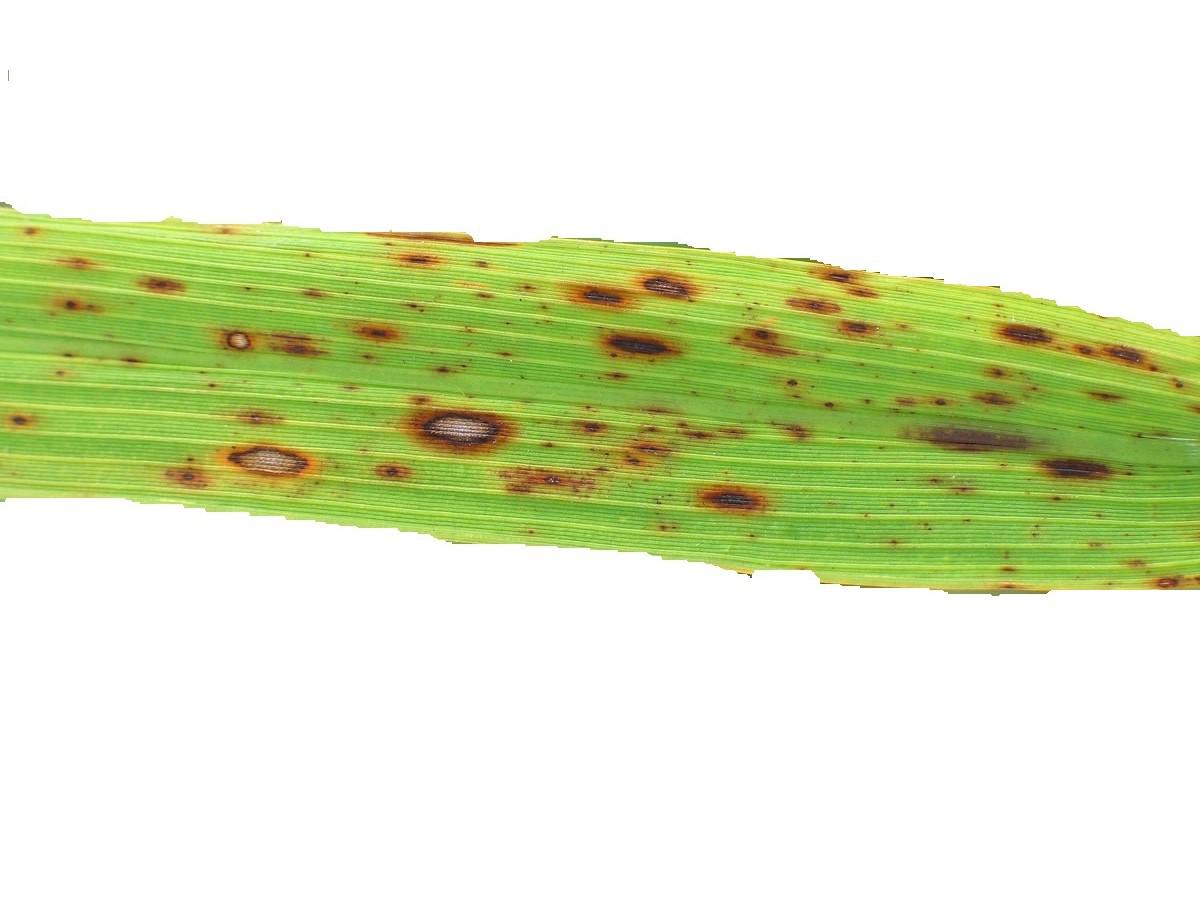0 BrownSpot: (793, 238, 900, 344), (404, 381, 528, 466), (896, 407, 1043, 466), (198, 307, 341, 363), (210, 421, 326, 488), (684, 460, 770, 536), (717, 304, 810, 374), (591, 311, 698, 367), (558, 257, 647, 324), (1074, 330, 1171, 388), (503, 453, 612, 501), (1041, 441, 1137, 487), (633, 253, 703, 296), (996, 307, 1053, 354), (133, 266, 198, 301), (168, 458, 214, 498), (51, 291, 114, 319), (373, 244, 441, 267), (1, 403, 49, 435), (50, 249, 100, 273)
